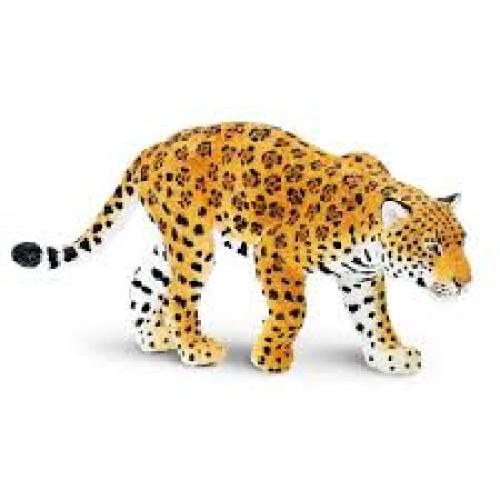jaguar_not-endangered: (12, 124, 469, 375)
